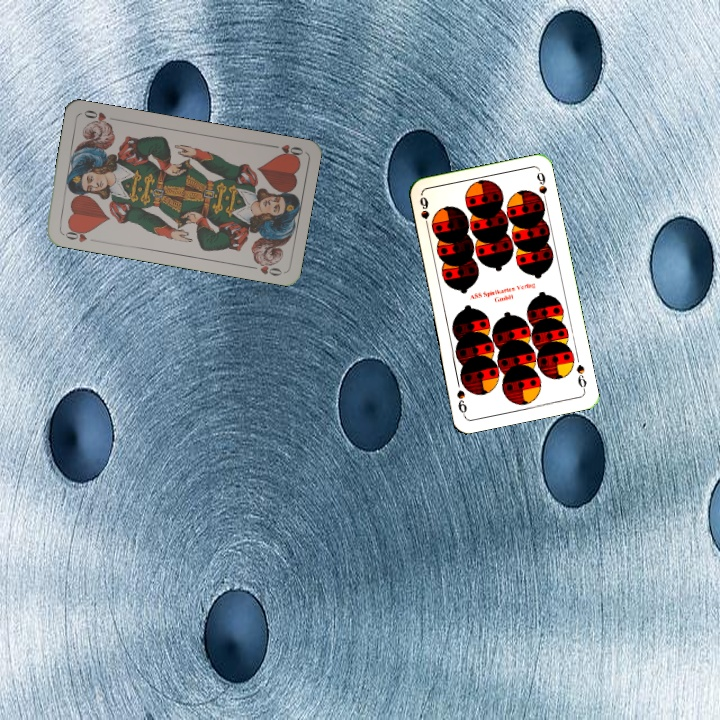HO: (58, 223, 99, 245), (265, 140, 306, 161)
S9: (416, 192, 432, 233), (572, 361, 589, 393)
